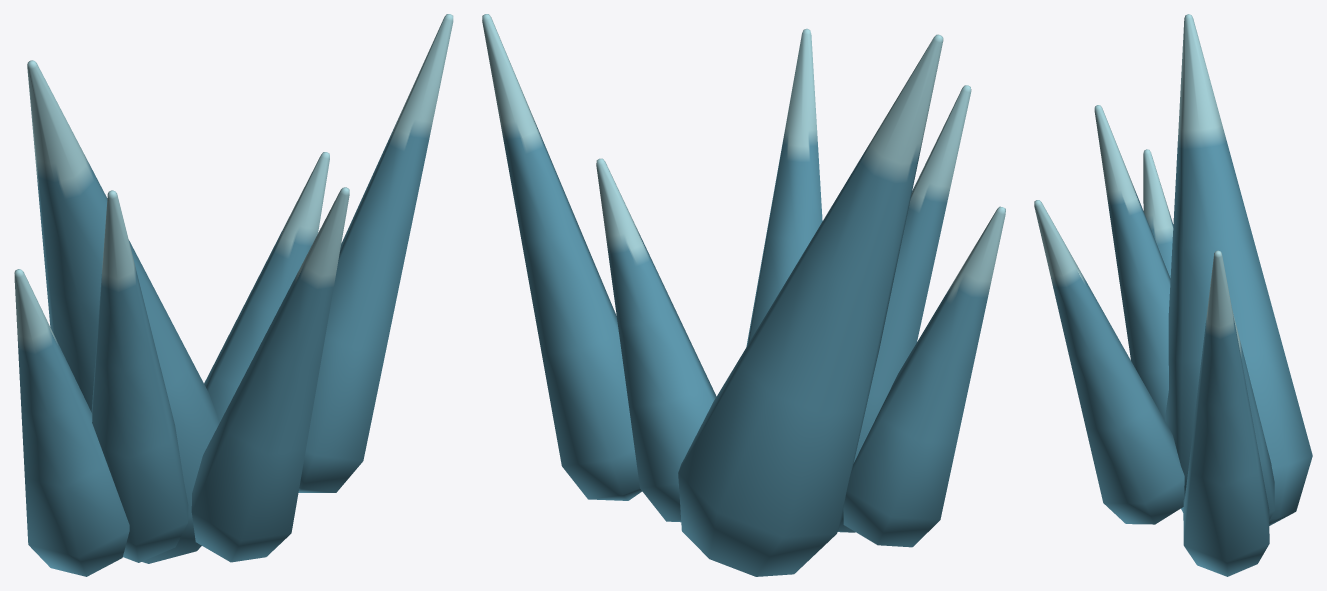
Rendered from prop_crystaltrue_2411.glb.
The picture shows the model from 3 angles, left to right: view 1: azimuth 30°, elevation 25°; view 2: azimuth 150°, elevation 25°; view 3: azimuth 270°, elevation 25°; orthographic projection. The views are drawn at different scales.
Visible parts, largest first — view 1: prop_crystaltrue_2411; view 2: prop_crystaltrue_2411; view 3: prop_crystaltrue_2411.
Boxes of the visible parts, x1=… form: prop_crystaltrue_2411: x1=14, y1=14, x2=453, y2=576; prop_crystaltrue_2411: x1=482, y1=14, x2=1005, y2=576; prop_crystaltrue_2411: x1=1034, y1=14, x2=1312, y2=576.
Size of the model in its own units: 0.9068 by 0.9845 by 0.5464.
Materials: 1 (1 with a texture image).
